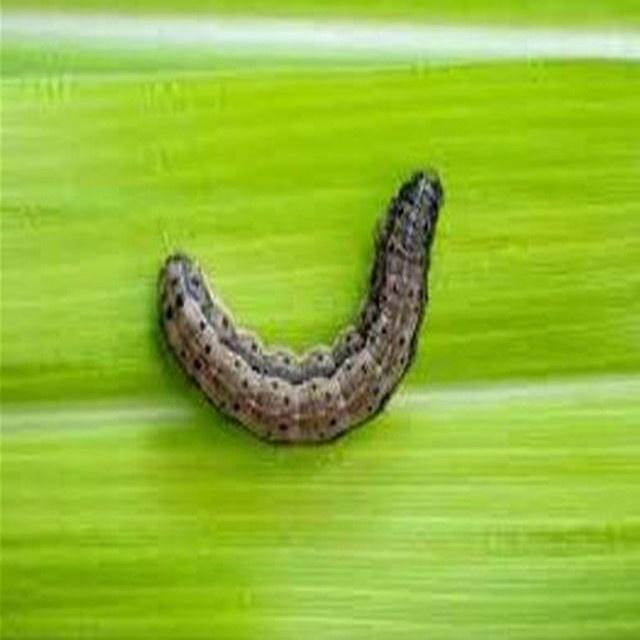worm: (155, 168, 445, 447)
